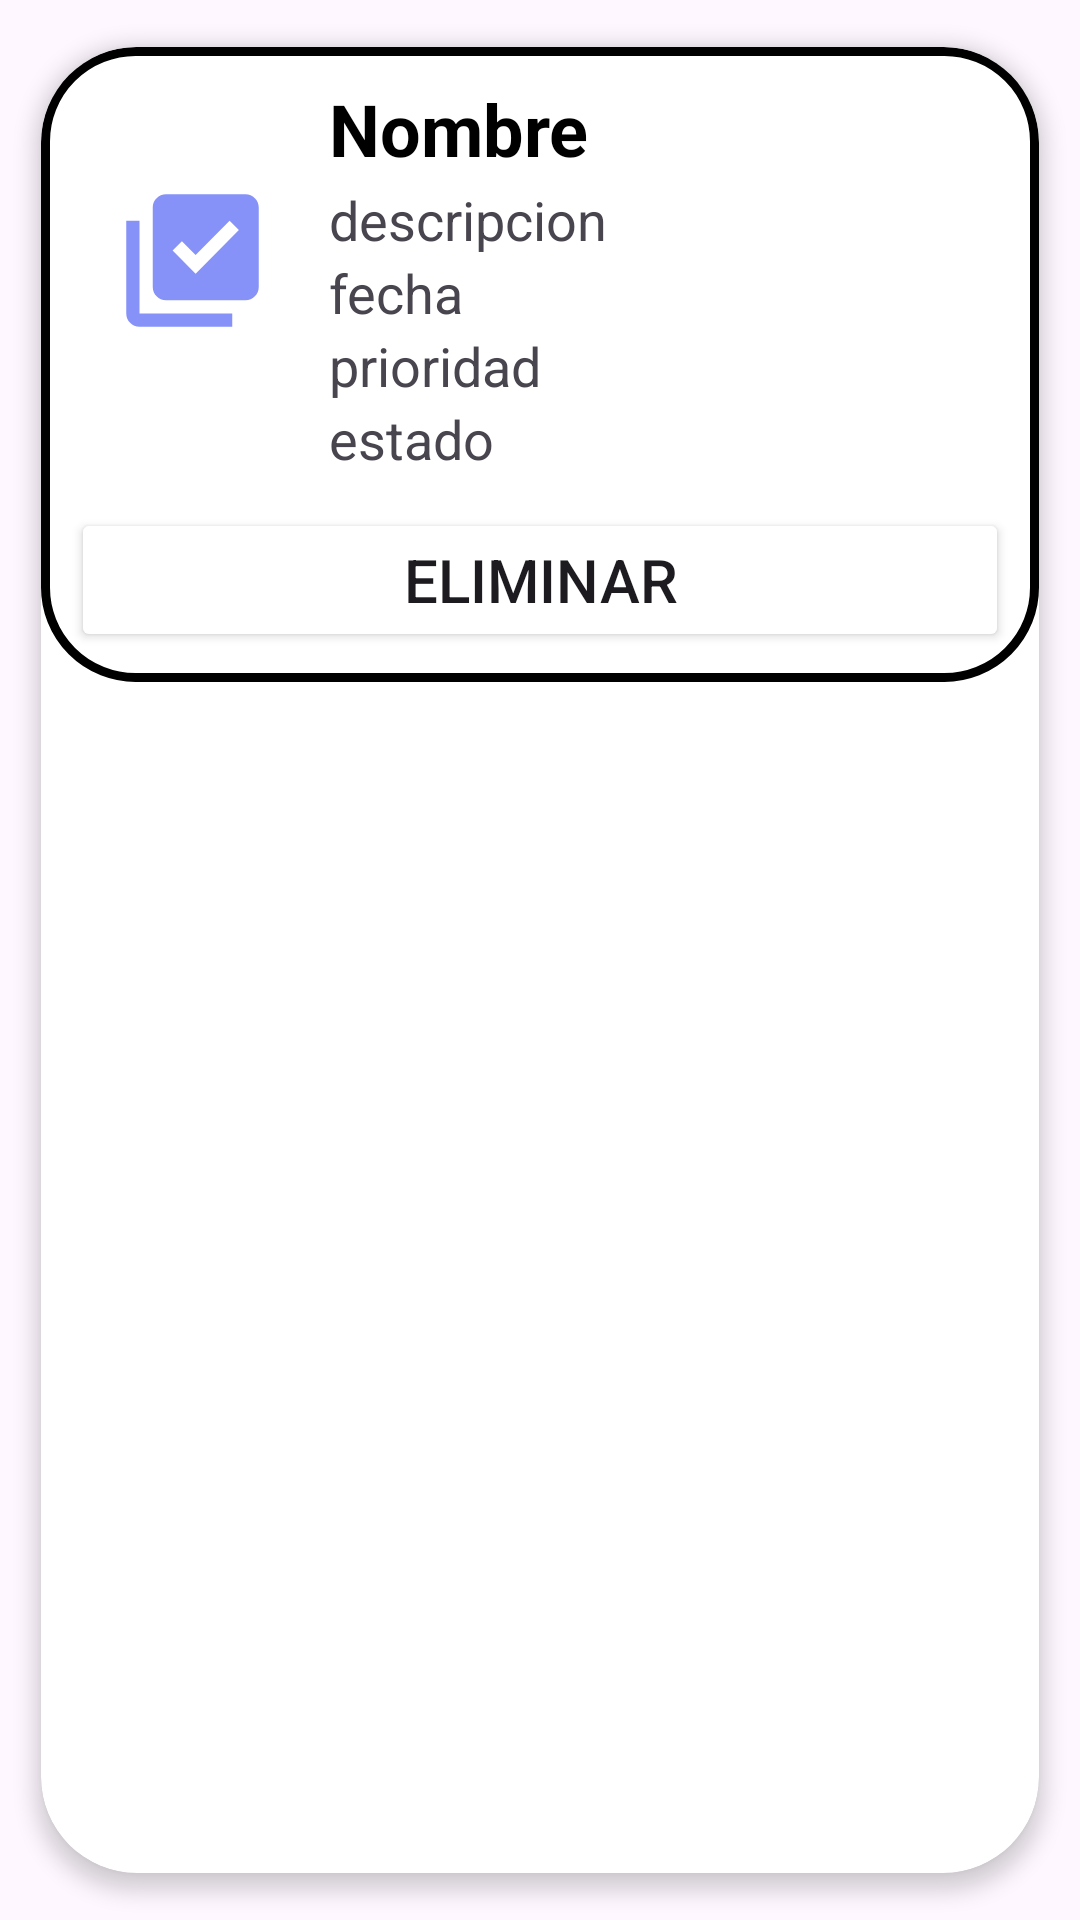

Locate icon controls on the screen. Image size 1080*1920, boxes as box=[x1, y1, x2, y2].
library add check: box=[126, 194, 259, 327]
